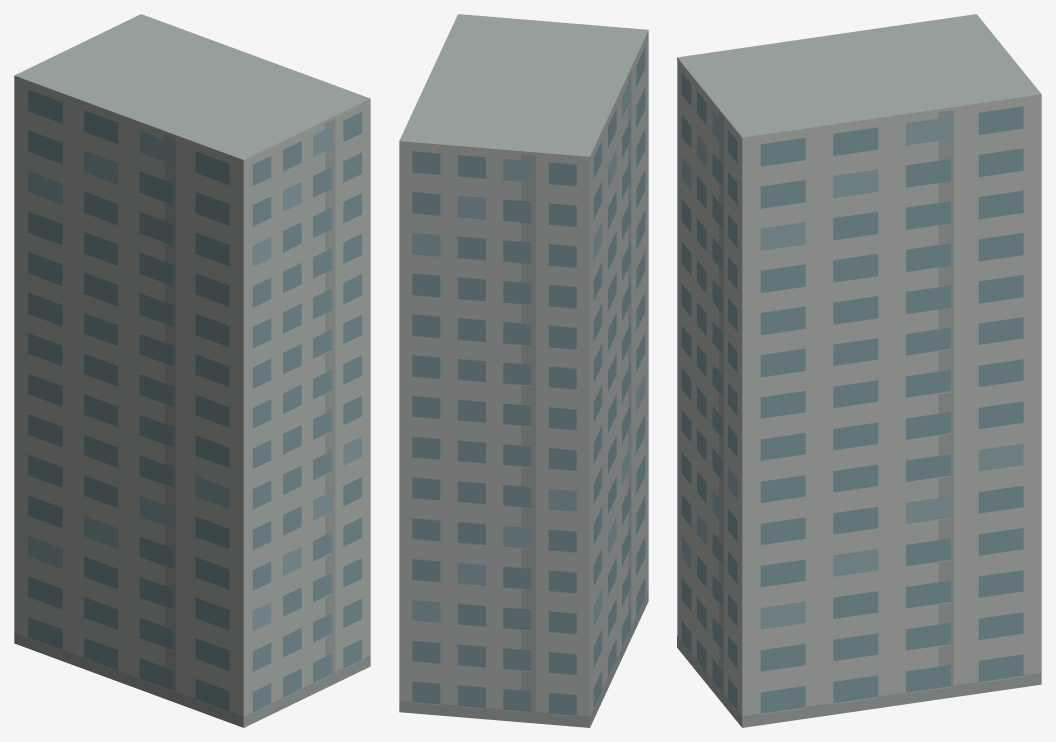
Rendered from residential-870d312f-9afa-40a1-9df7-b1cea107ba27.glb.
3 renders of one model, left to right at view 1: azimuth 30°, elevation 25°; view 2: azimuth 150°, elevation 25°; view 3: azimuth 270°, elevation 25°, orthographic. The views are drawn at different scales.
Parts seen in each view (by area): view 1: residential-870d312f-9afa-40a1-9df7-b1cea107ba27.tmp; view 2: residential-870d312f-9afa-40a1-9df7-b1cea107ba27.tmp; view 3: residential-870d312f-9afa-40a1-9df7-b1cea107ba27.tmp.
Part boxes in pixels (x1,y1,x2,y2): residential-870d312f-9afa-40a1-9df7-b1cea107ba27.tmp: (14, 14, 370, 727); residential-870d312f-9afa-40a1-9df7-b1cea107ba27.tmp: (399, 14, 648, 727); residential-870d312f-9afa-40a1-9df7-b1cea107ba27.tmp: (677, 14, 1041, 727).
Bounding box in the file's own units: 22.03 × 49 × 27.44.
